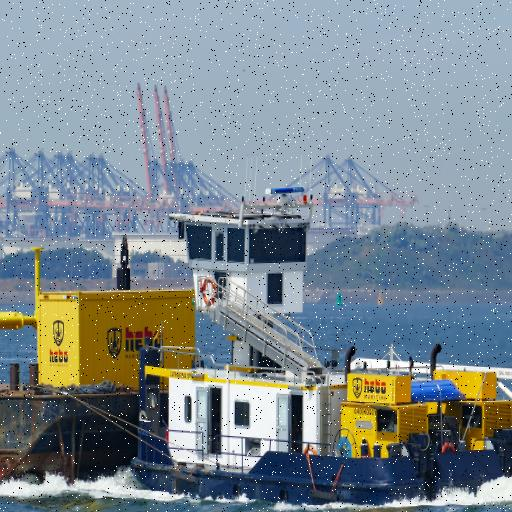tugboat: (127, 181, 512, 512)
